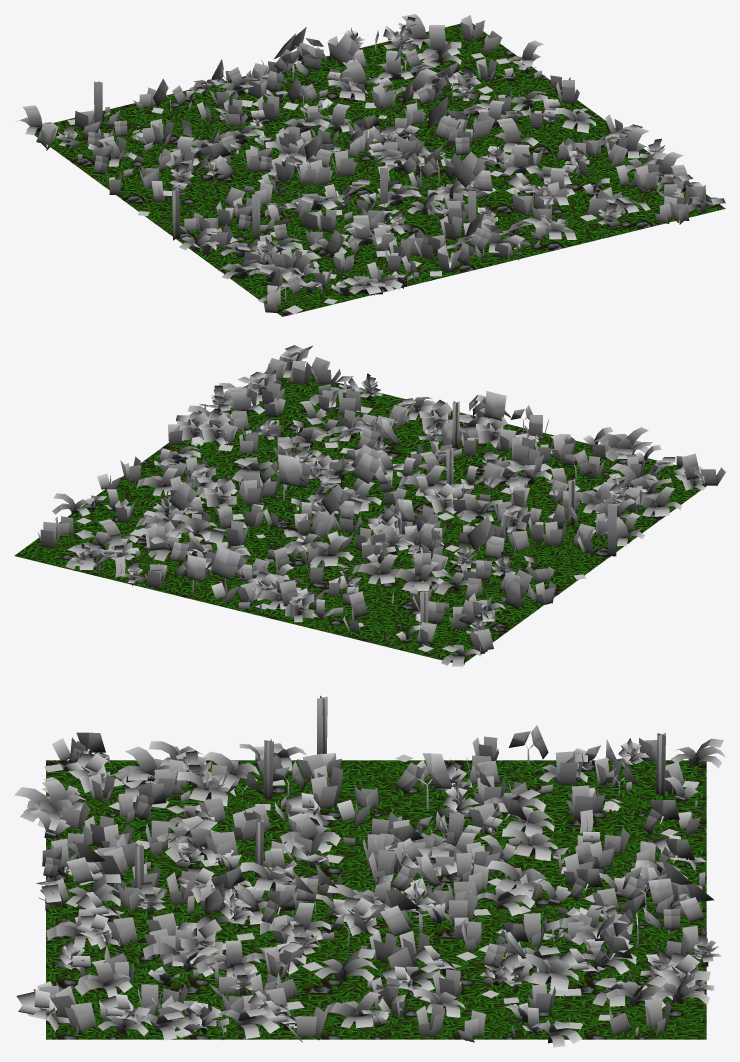
The model's file is Grass.fbx.
3 views of the same model, one above another, from view 1: azimuth 30°, elevation 25°; view 2: azimuth 150°, elevation 25°; view 3: azimuth 270°, elevation 25° (orthographic). The views are drawn at different scales.
Visible parts, largest first — view 1: Grass4x4; view 2: Grass4x4; view 3: Grass4x4.
Boxes of the visible parts, x1=… form: Grass4x4: x1=17, y1=14, x2=725, y2=316; Grass4x4: x1=14, y1=345, x2=725, y2=666; Grass4x4: x1=14, y1=695, x2=725, y2=1047.
Size of the model in its own units: 5.33 by 0.5622 by 5.39.
